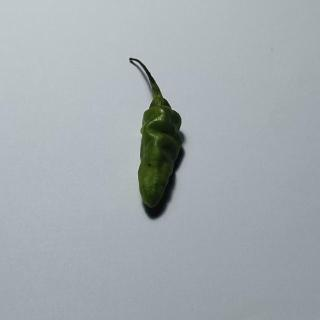Cabai Hijau: (124, 55, 186, 223)
